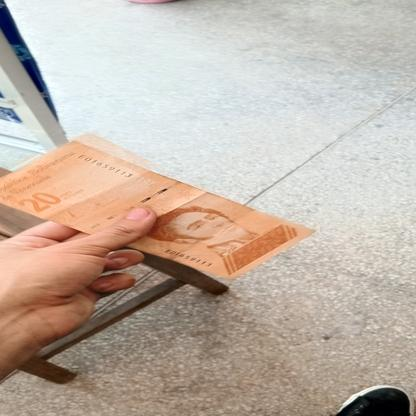twenty-front-vef: (0, 139, 317, 280)
